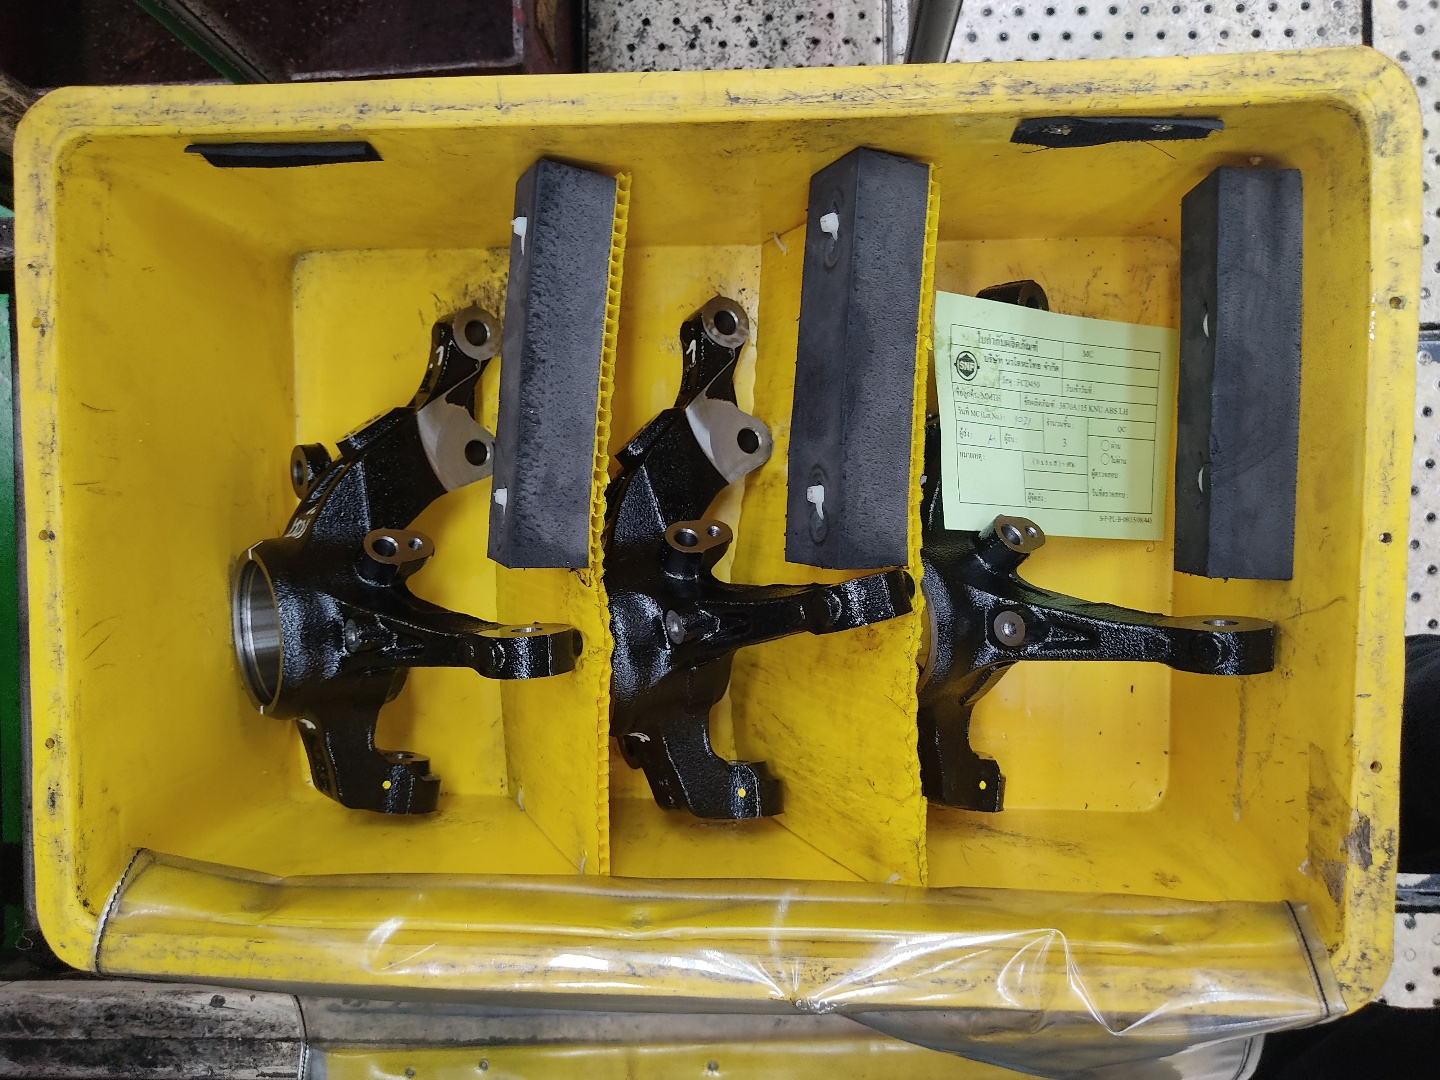abs-lh: (915, 263, 1294, 827), (218, 295, 592, 832), (603, 289, 915, 839)
